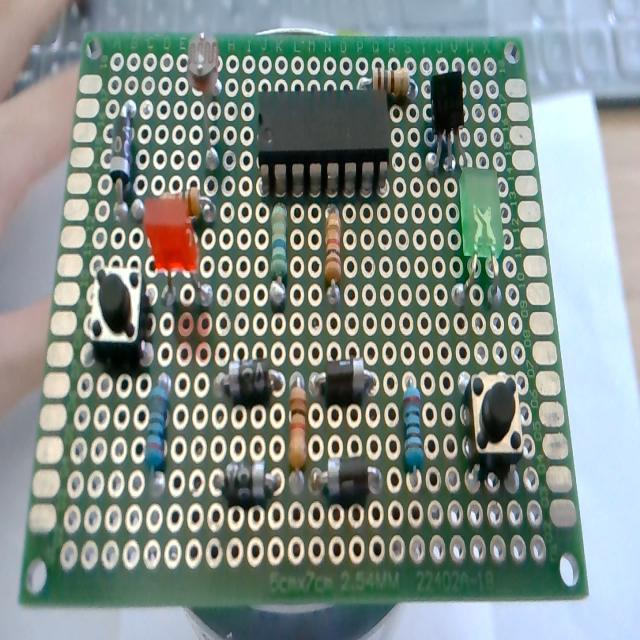IC: (253, 91, 397, 200)
cds: (184, 27, 230, 174)
diode: (107, 97, 135, 226), (212, 356, 282, 402), (315, 457, 385, 500), (311, 357, 379, 400), (210, 459, 279, 501)
led: (140, 197, 211, 311), (454, 170, 508, 306)
resistor: (392, 374, 424, 486), (144, 372, 172, 492), (319, 212, 349, 302), (267, 205, 293, 306)
switch: (461, 370, 531, 473), (91, 263, 147, 358)
transistor: (426, 73, 472, 171)
